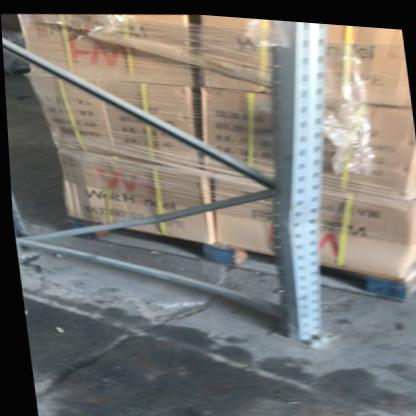vertical_damage: (267, 185, 335, 246)
